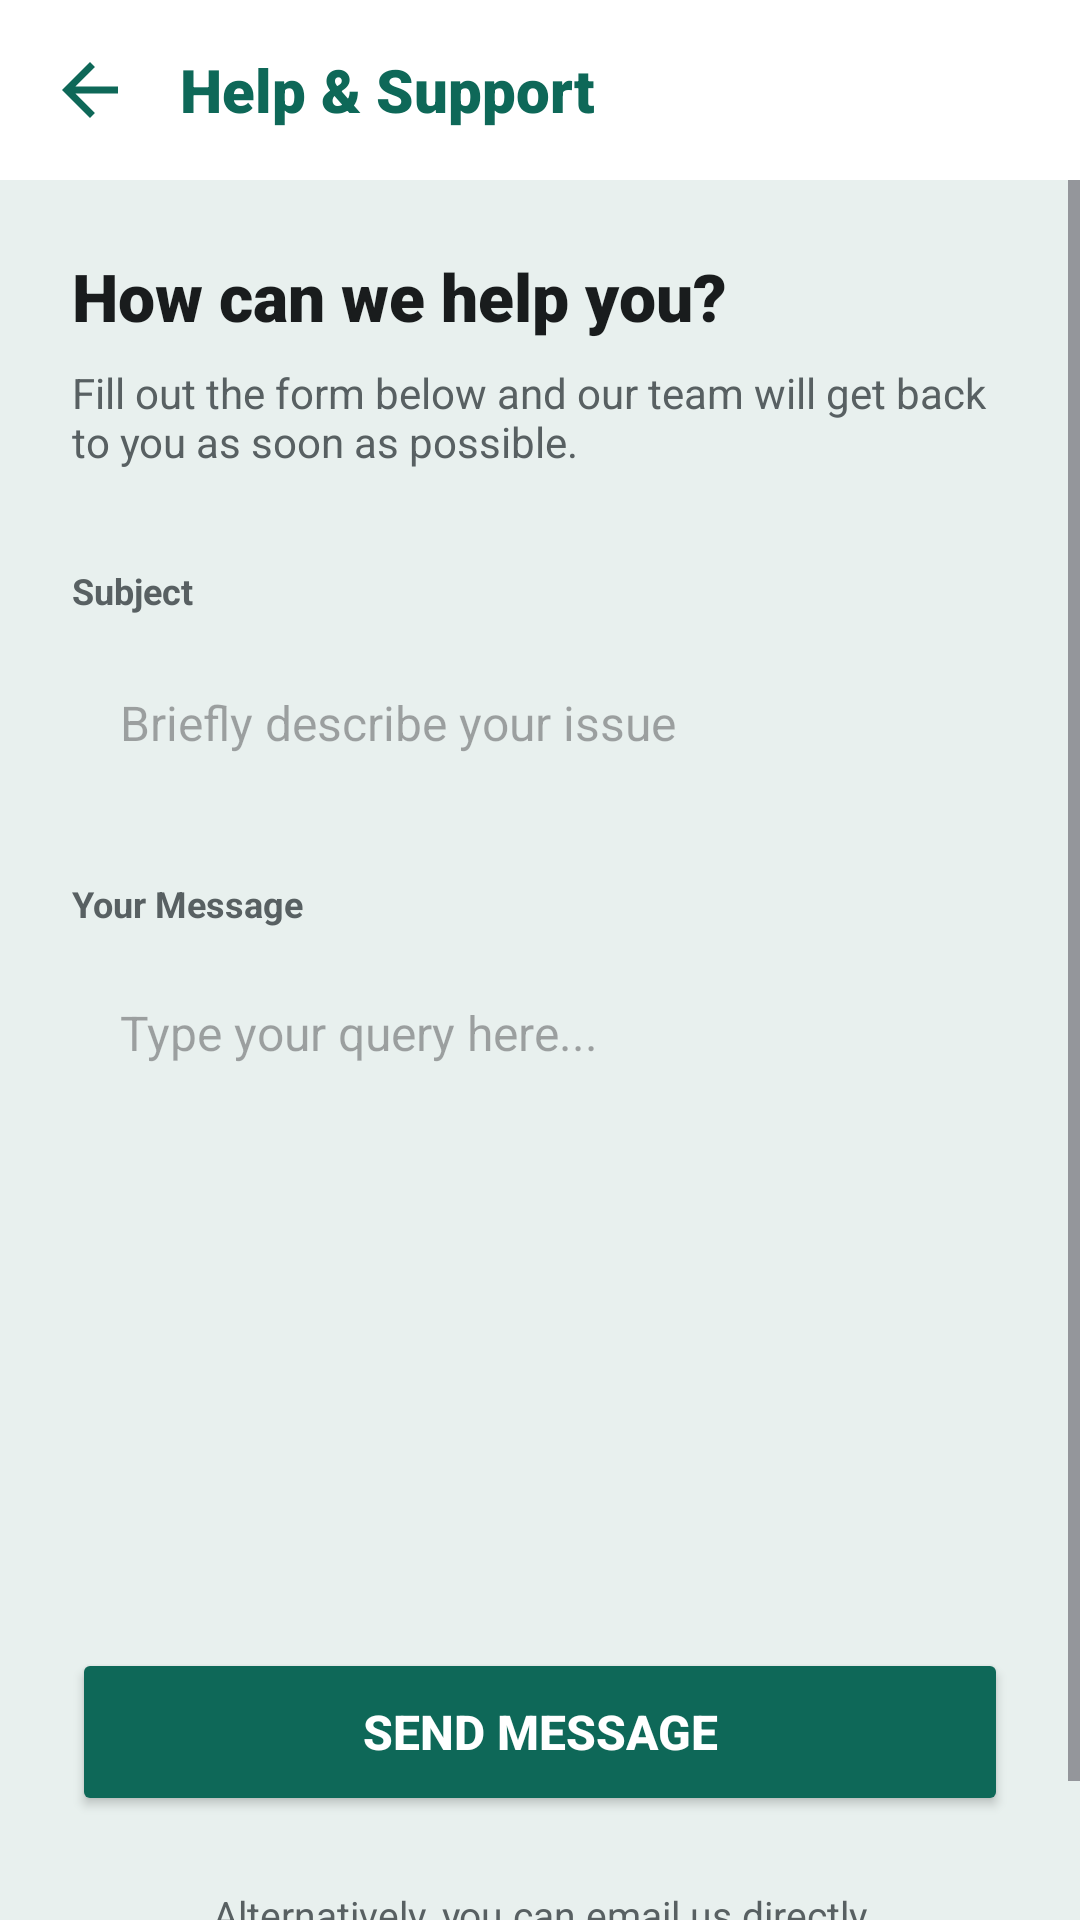

Point at icon controls on the screen. Image size 1080*1920, points as (x,y).
back: (90,90)
